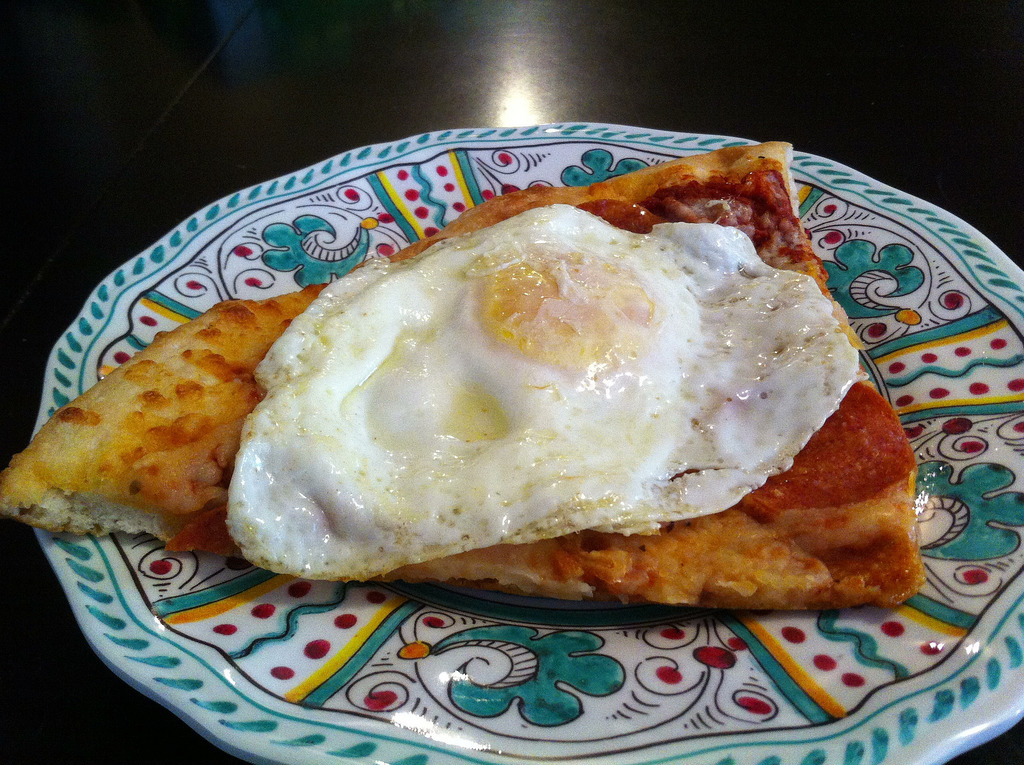fried egg: (267, 218, 798, 531)
